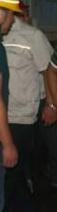hard-hat: (0, 0, 26, 19)
